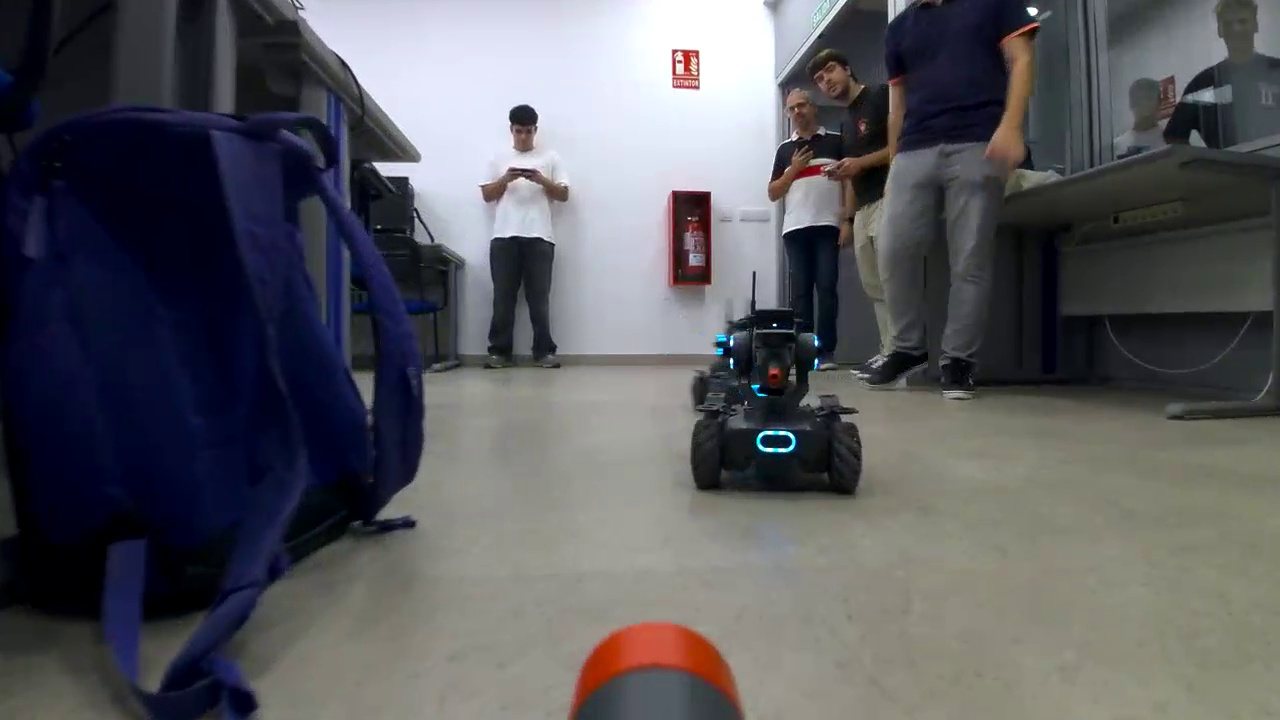robot: (688, 307, 867, 503), (689, 311, 771, 412)
